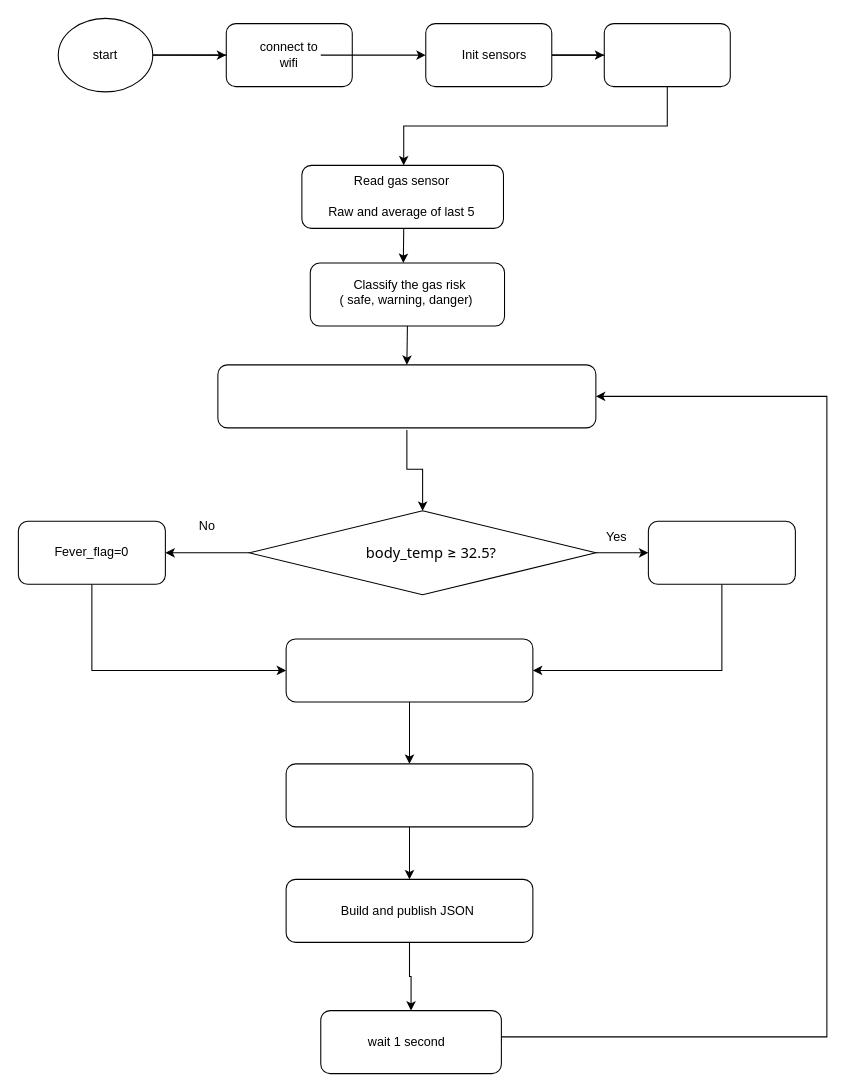
Some shapes in this 854 by 1092 pixel diagram are drawn without their labels. The shapes that lost their labels are listed below. From the top down, each one's centre as x and y in pixels, then its label:
point 666,55: connect to MQTT
point 406,396: read body temperature
point 409,670: Pressure and altitude BMP280, altitude formula
point 409,795: Read timestamp DS3231 RTC
